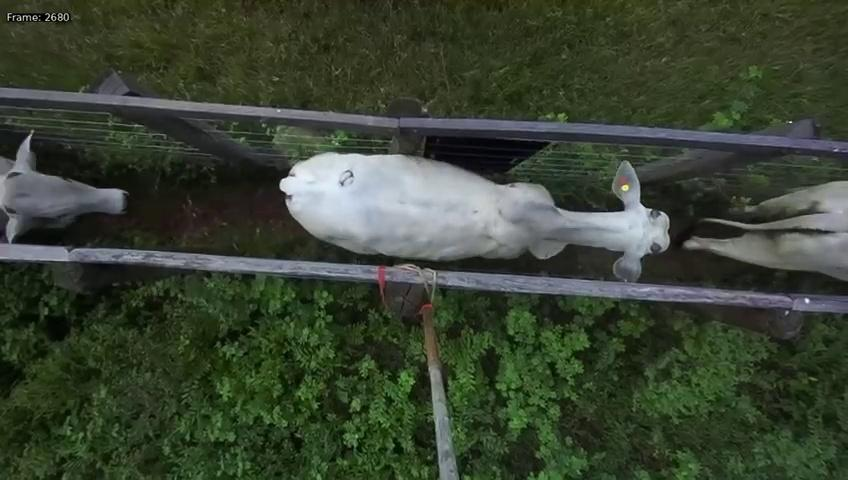cattle: (274, 136, 672, 282), (1, 127, 128, 244)
